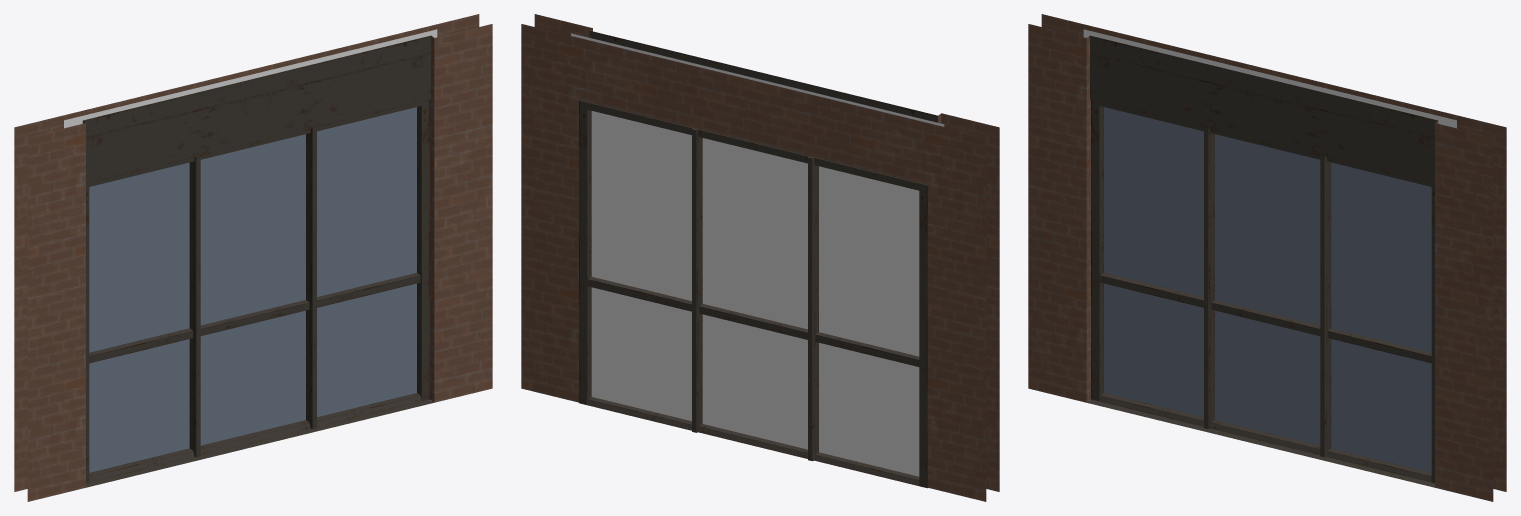
File: Metal_Window.gltf
3 views of the same model, side by side, from view 1: azimuth 30°, elevation 25°; view 2: azimuth 150°, elevation 25°; view 3: azimuth 330°, elevation 25° (orthographic).
Visible parts, largest first — view 1: Metal_Window; view 2: Metal_Window; view 3: Metal_Window.
Boxes of the visible parts, bbox=[...] form: Metal_Window: bbox=[14, 14, 492, 501]; Metal_Window: bbox=[521, 14, 999, 501]; Metal_Window: bbox=[1028, 14, 1506, 501].
Size of the model in its own units: 4 by 3 by 0.2239.
5 materials, 3 textured.
